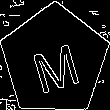M_N: (26, 29, 83, 92)
